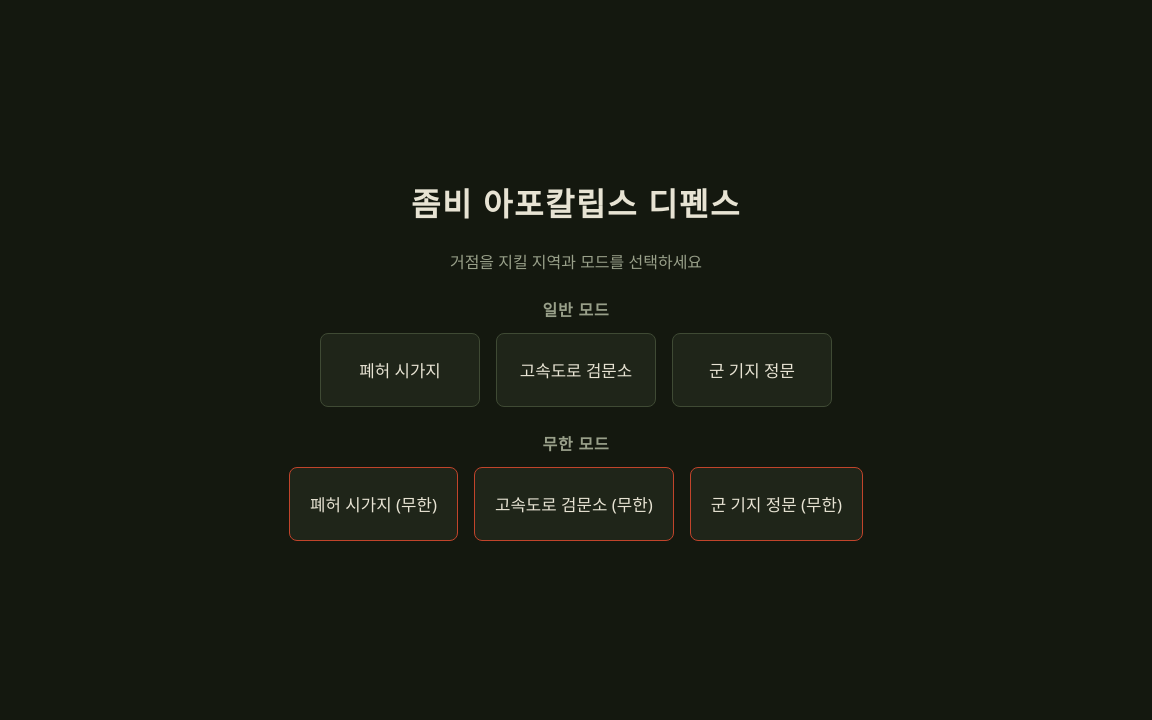
Scenario: App › selecting a placed tower shows the upgrade panel, and upgrading raises its level
Click the button "폐허 시가지" at coordinates (400, 370), box [320,333,480,407]
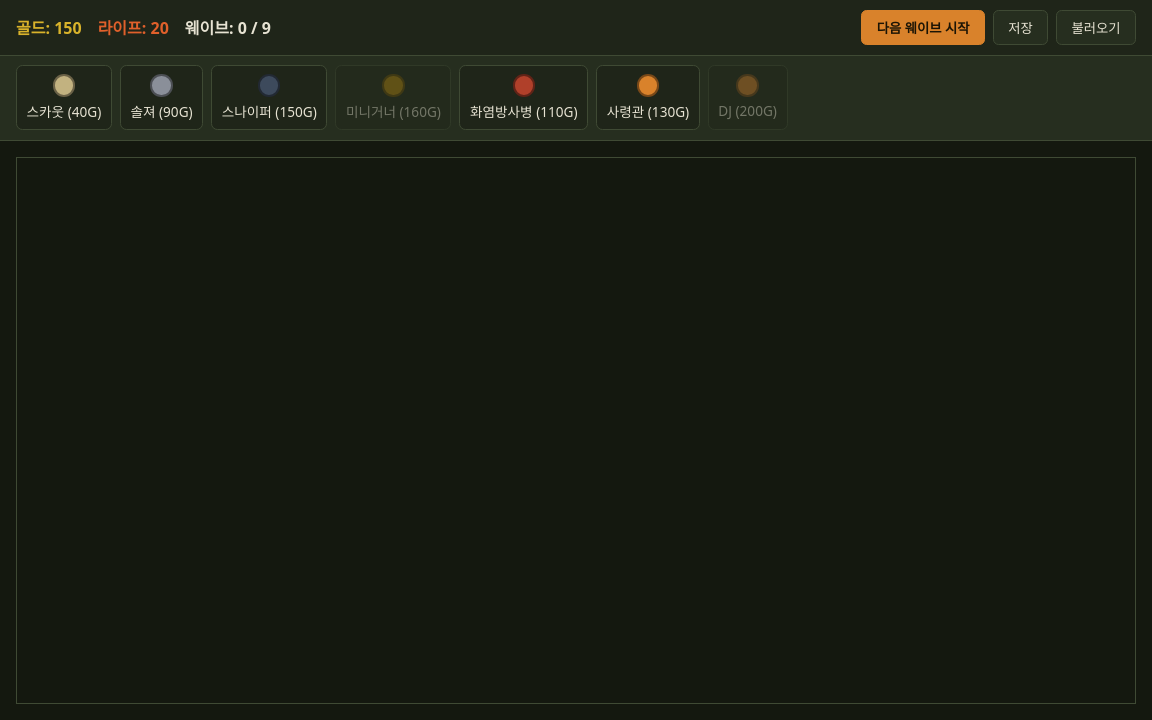
Click the button "스카웃 (40G)" at coordinates (64, 98), box [16,65,112,130]
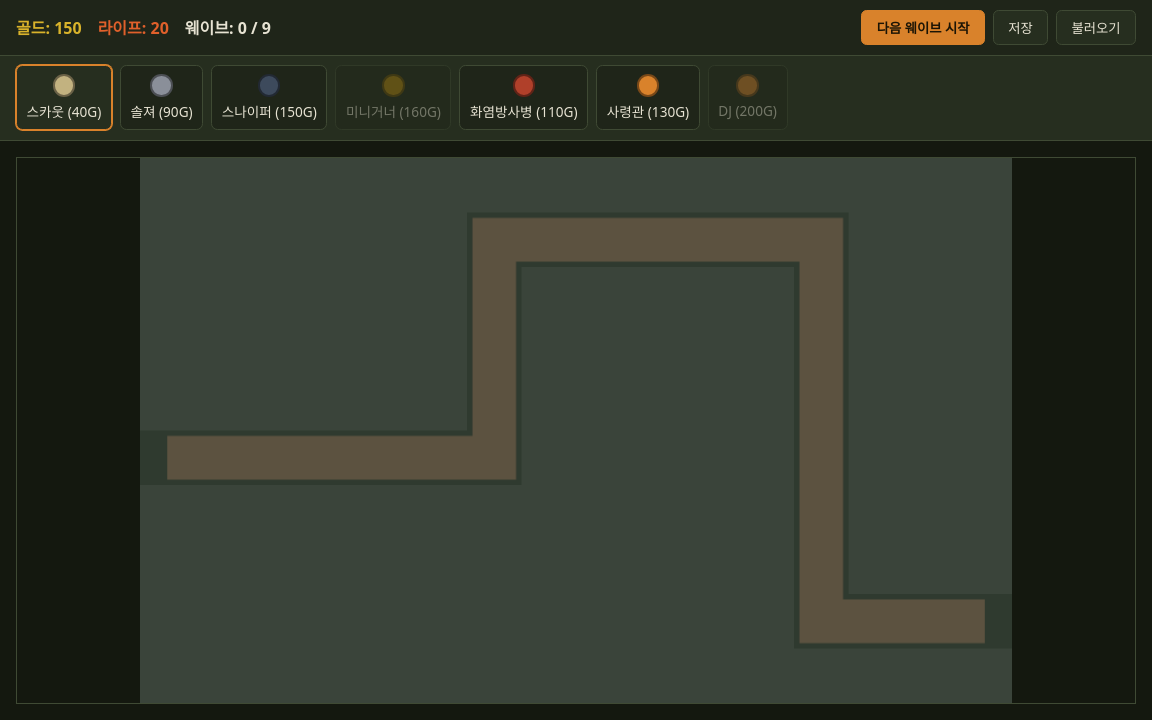
Click the drawing at coordinates (576, 430), box [16,157,1136,704]
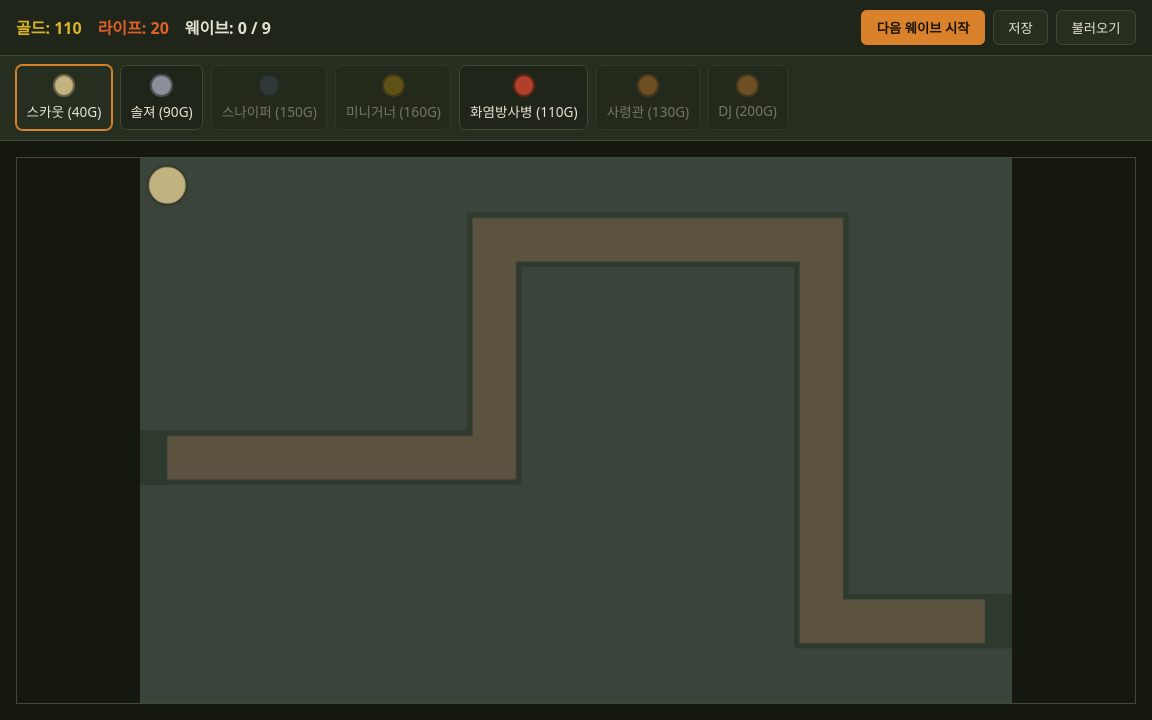
Click the button "스카웃 (40G)" at coordinates (64, 98), box [16,65,112,130]
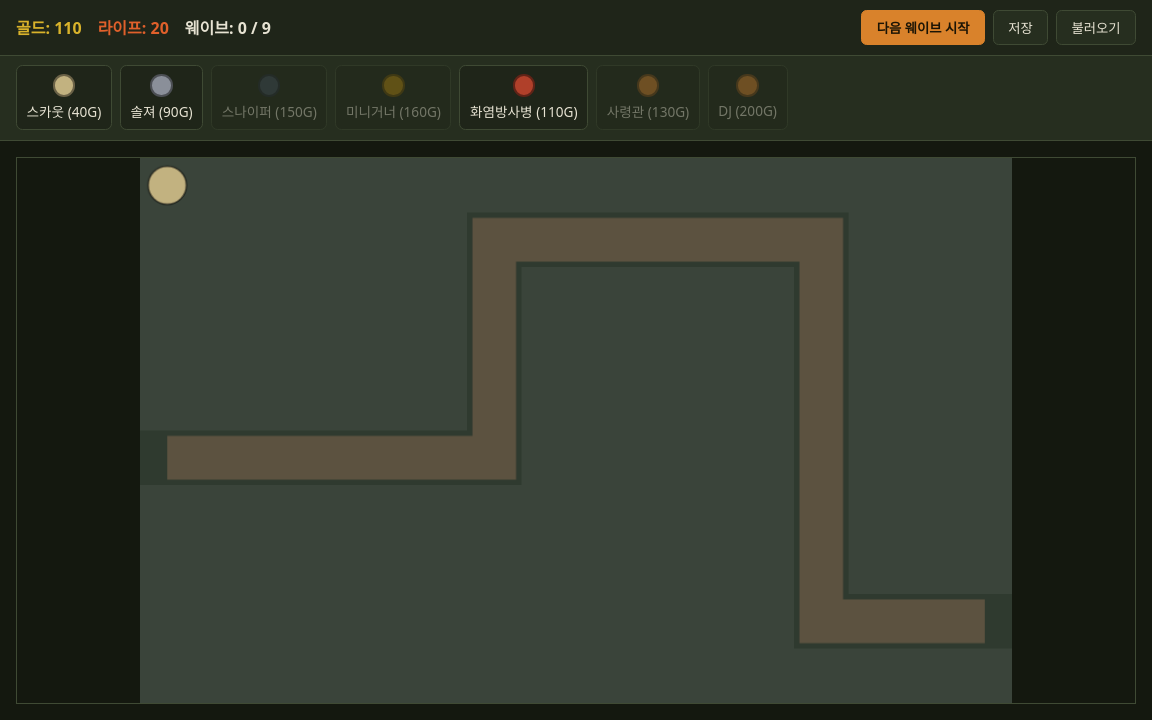
Click the drawing at coordinates (576, 430), box [16,157,1136,704]
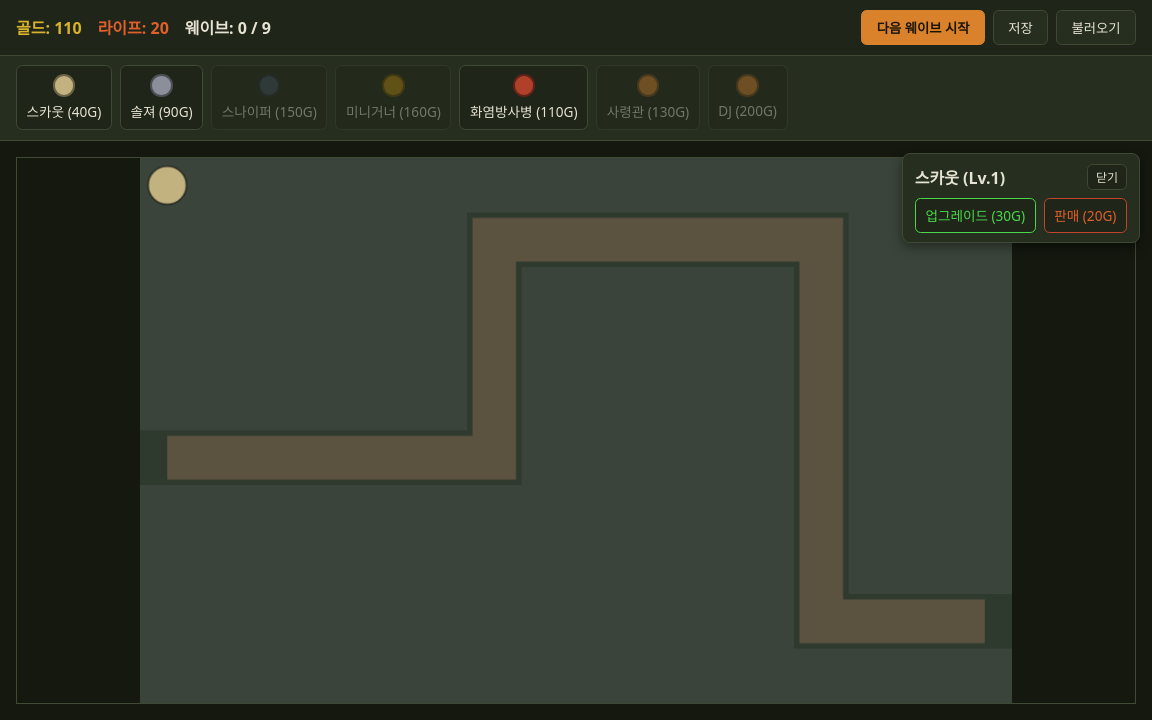
Expected: the text "스카웃 (Lv.1)" is shown, [915,165,1005,189]
Click the button "업그레이드 (30G)" at coordinates (975, 215), box [915,198,1036,233]
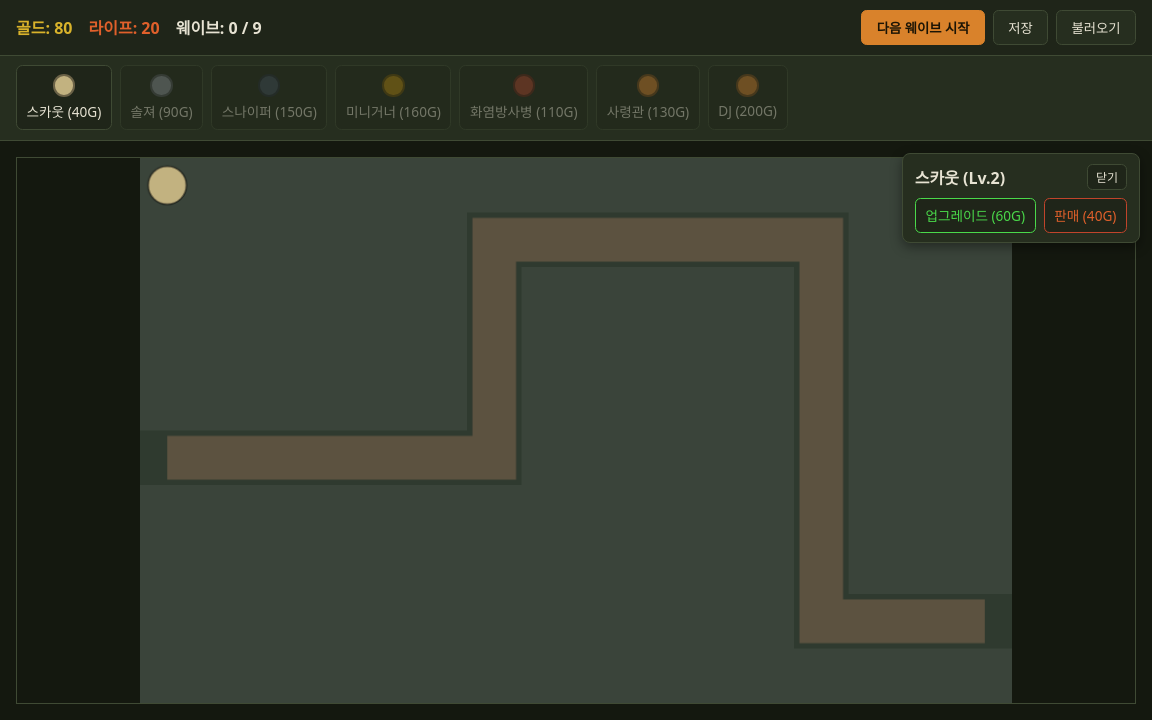
Expected: the text "스카웃 (Lv.2)" is shown, [915,165,1005,189]
